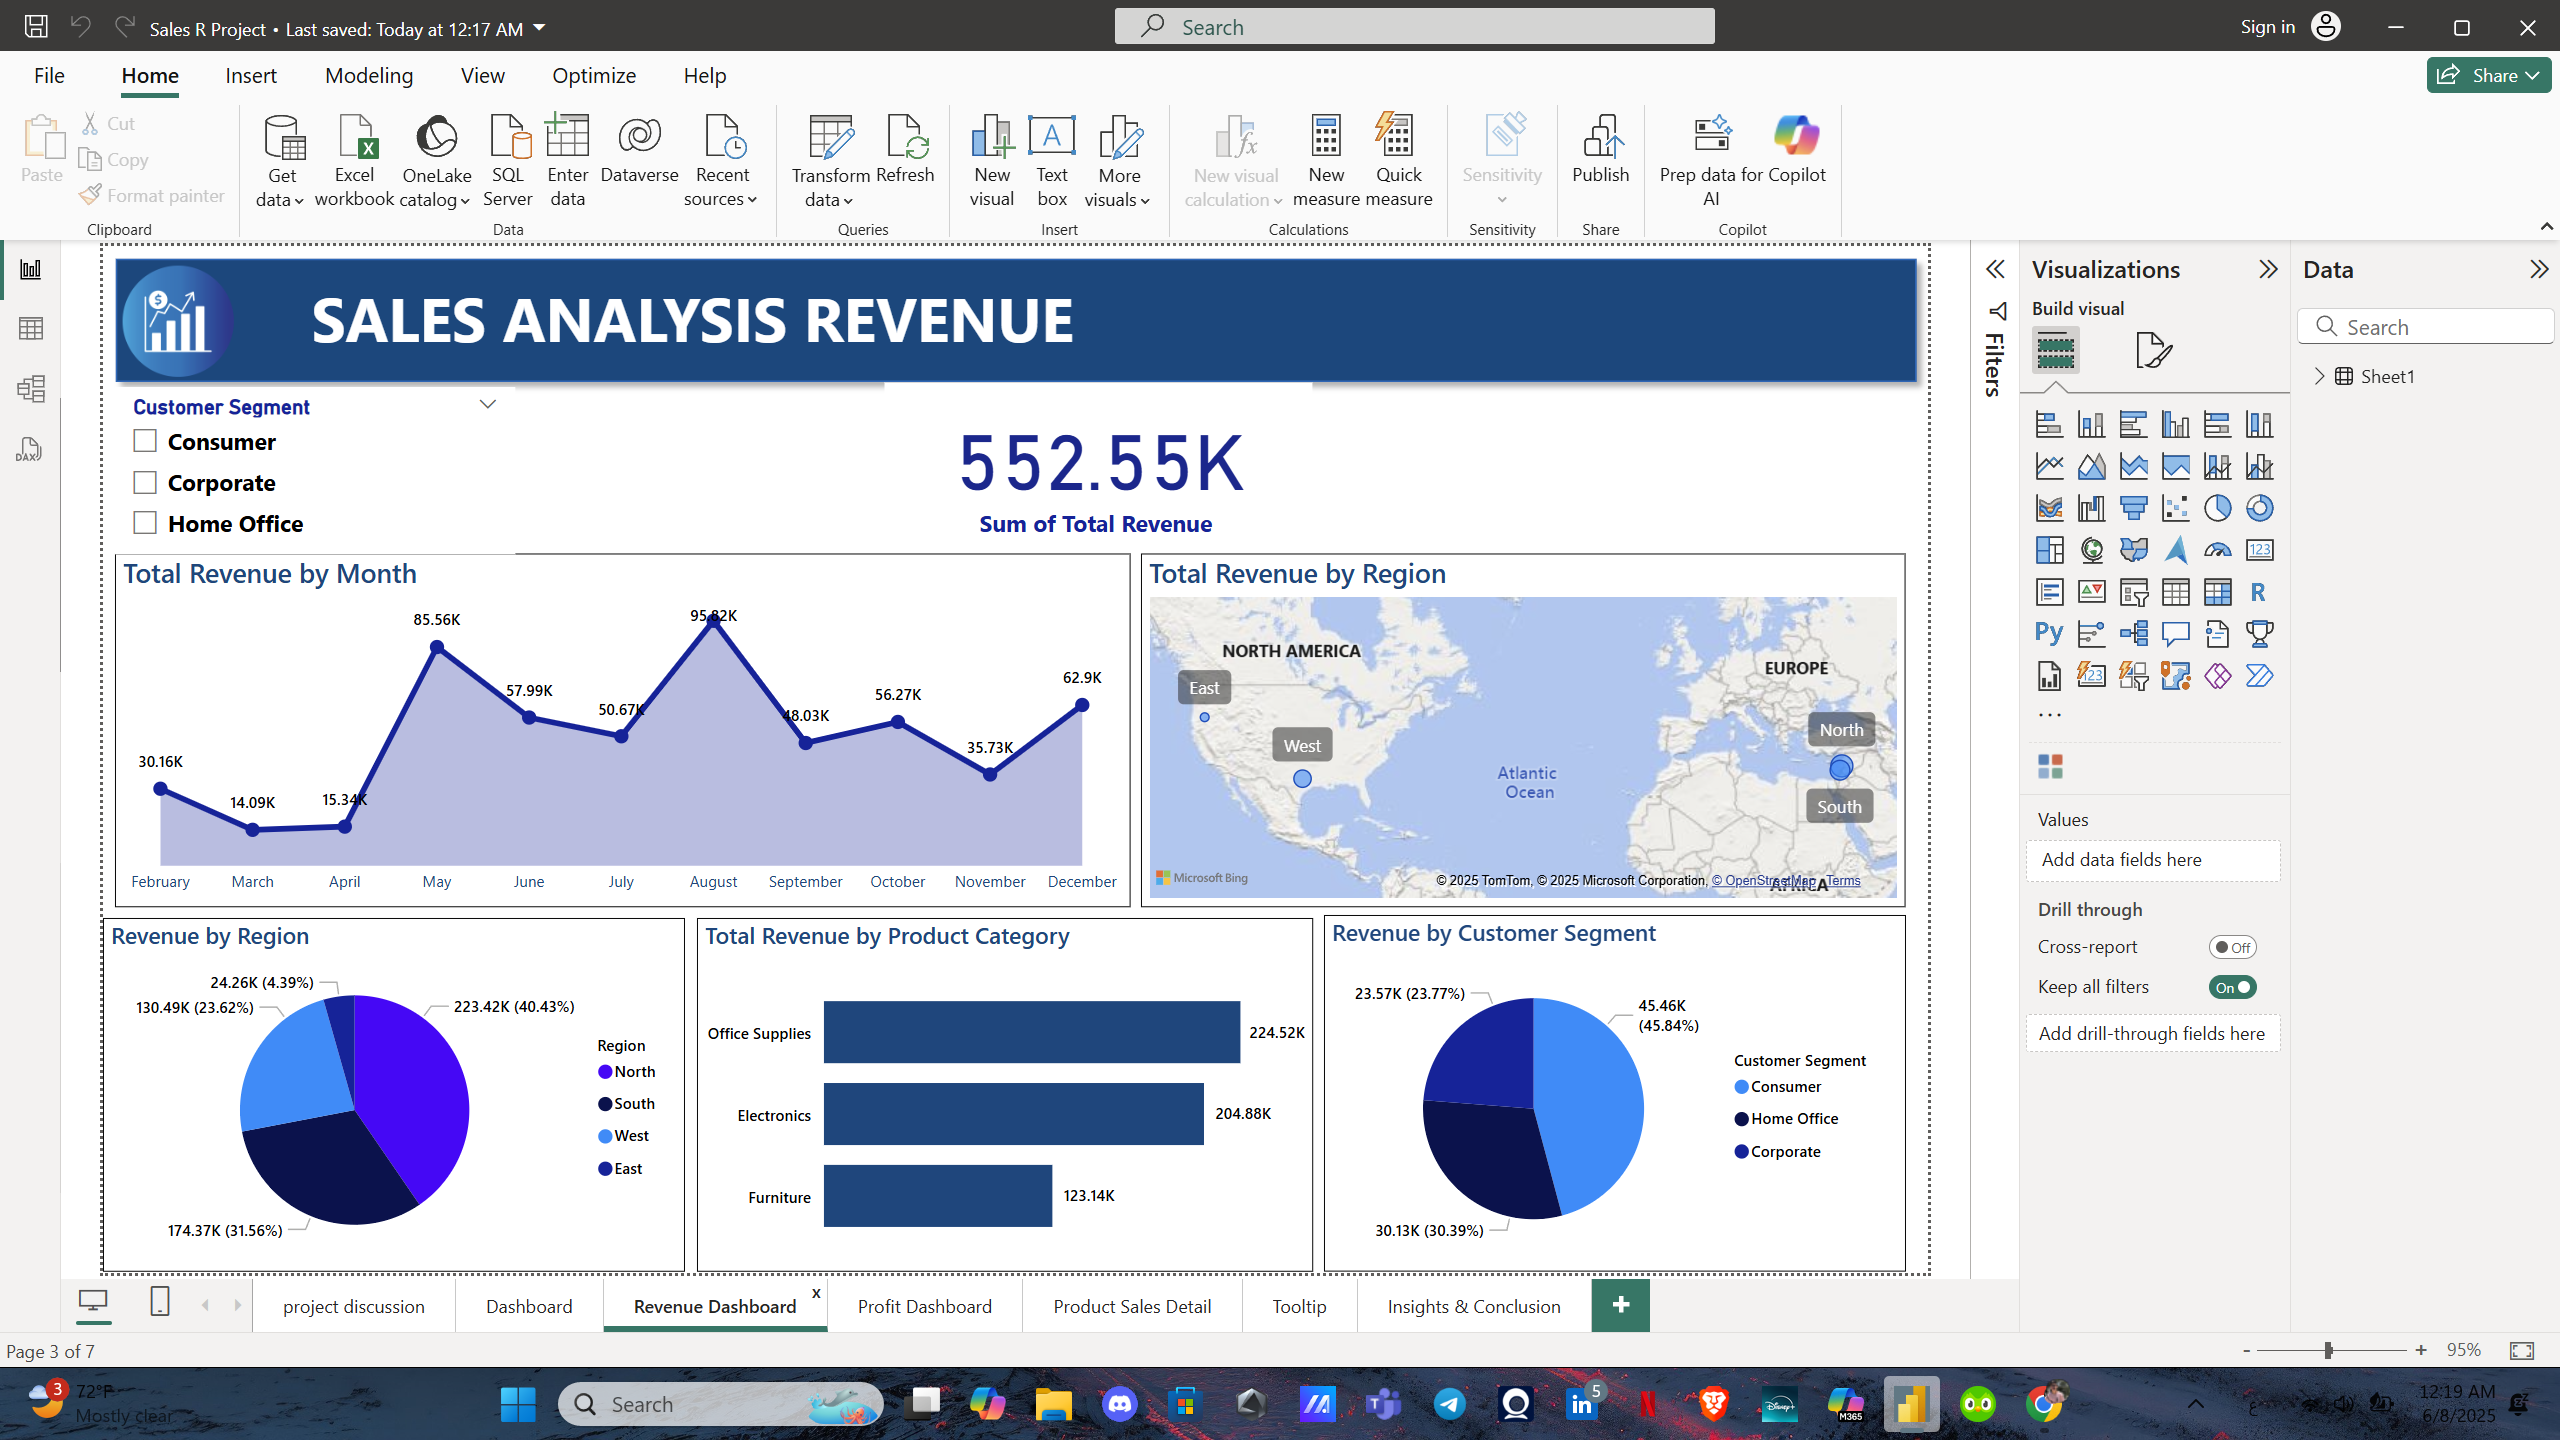

What the dashboard file says about the page in this screenshot:
{"tool":"powerbi","page":{"name":"Revenue Dashboard","canvas":[1280,720],"ordinal":2},"visuals":[{"type":"shape","box":[0,0,1280.4,104.3],"z":0},{"type":"textbox","box":[129.8,16.2,675.5,71.8],"z":1000},{"type":"card","fields":{"Values":["Sum(Sheet1.Total Revenue )"]},"box":[548.1,96.2,300.1,119.3],"z":2000},{"type":"areaChart","title":"Total Revenue by Month","fields":{"Y":["Sum(Sheet1.Total Revenue )"],"Category":["Sheet1.Order_Date.Variation.Date Hierarchy.Month"]},"box":[8,216,712,248],"z":3000},{"type":"map","title":"Total Revenue by Region","fields":{"Category":["Sheet1.Region"],"Size":["Sum(Sheet1.Total Revenue )"]},"box":[728,216,536,248],"z":4000},{"type":"barChart","title":"Total Revenue by Product Category","fields":{"Y":["Sum(Sheet1.Total Revenue )"],"Category":["Sheet1.Product Category"]},"box":[416,471.6,432.2,248],"z":5000},{"type":"image","box":[8.1,8.1,88.1,88.1],"z":6000},{"type":"pieChart","title":"Revenue by Region","fields":{"Category":["Sheet1.Region"],"Y":["Sum(Sheet1.Total Revenue )"]},"box":[0,471.6,407.9,248],"z":7000},{"type":"pieChart","title":"Revenue by Customer Segment","fields":{"Category":["Sheet1.Customer Segment"],"Y":["Sum(Sheet1.Profit)"]},"box":[856.3,469.3,407.9,250.3],"z":8000},{"type":"slicer","fields":{"Values":["Sheet1.Customer Segment"]},"box":[8.1,98.5,280.4,117],"z":9000}]}

Visuals, with their boxes on the page's 1280x720 design canvas (x1, y1, x2, y2). These are canvas units, not pixel positions in the 2560x1440 screenshot, which may show the page scaled, cropped or inside an application window:
shape: BBox(0, 0, 1280, 104)
textbox: BBox(130, 16, 805, 88)
card - Sum(Sheet1.Total Revenue ): BBox(548, 96, 848, 216)
"Total Revenue by Month" areaChart: BBox(8, 216, 720, 464)
"Total Revenue by Region" map: BBox(728, 216, 1264, 464)
"Total Revenue by Product Category" barChart: BBox(416, 472, 848, 720)
image: BBox(8, 8, 96, 96)
"Revenue by Region" pieChart: BBox(0, 472, 408, 720)
"Revenue by Customer Segment" pieChart: BBox(856, 469, 1264, 720)
slicer - Sheet1.Customer Segment: BBox(8, 98, 288, 216)
